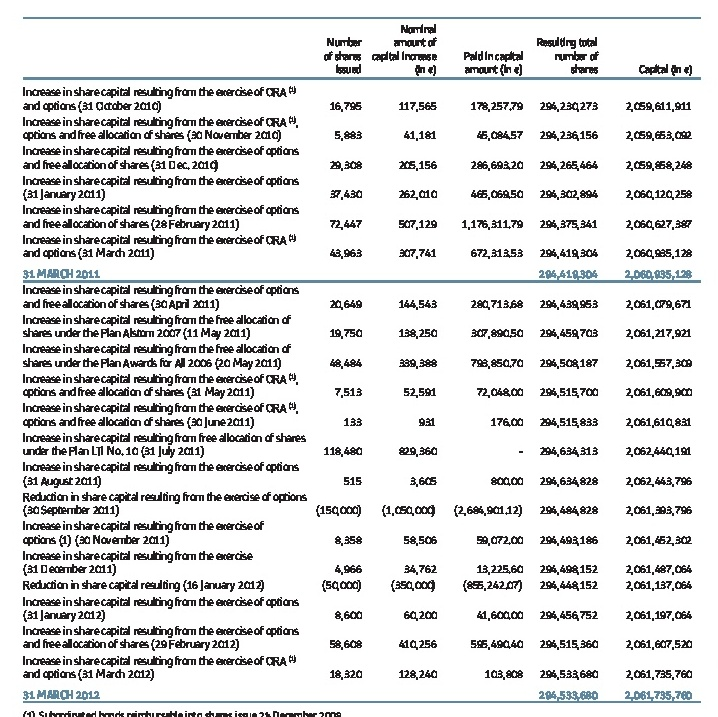table: (0, 0, 718, 717)
